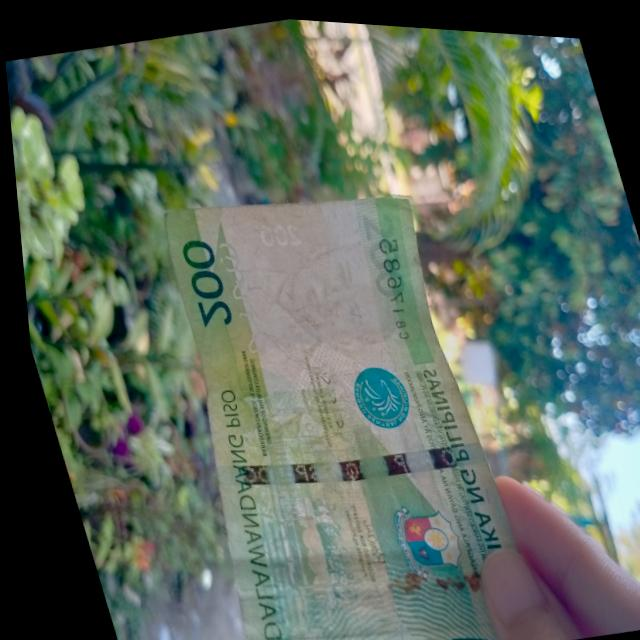security_thread: (201, 409, 478, 512)
see_through_mark: (198, 224, 273, 377)
serial_number: (359, 227, 422, 341)
value_watermark: (249, 213, 297, 248)
watermark: (232, 219, 422, 400)
